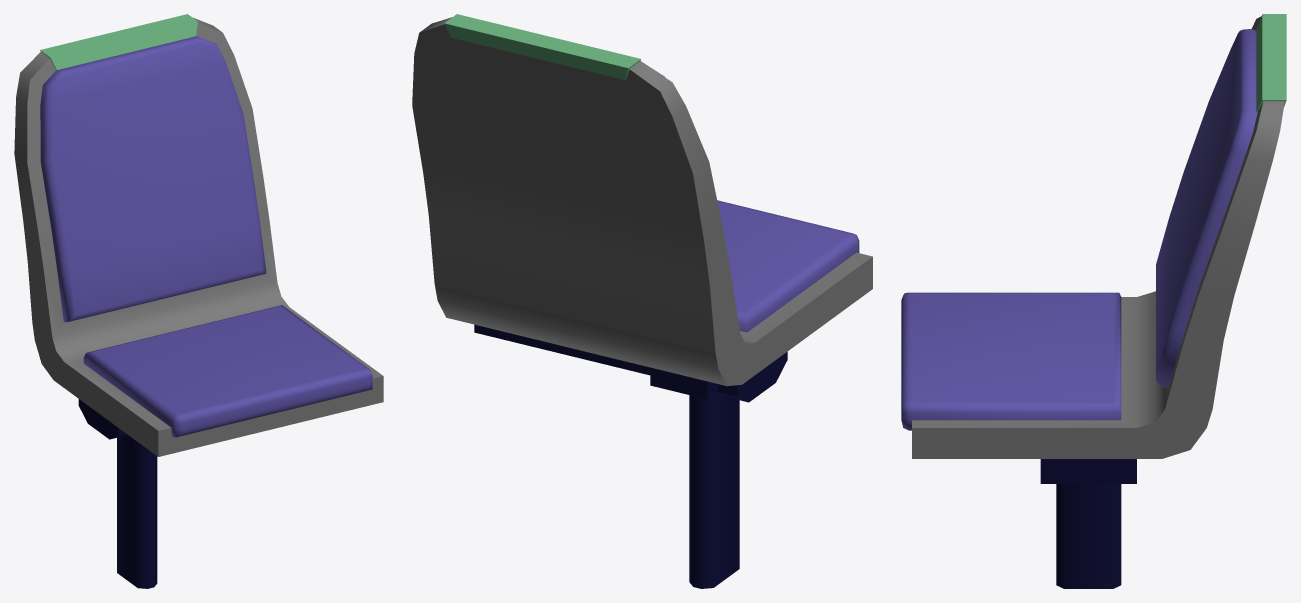
Rendered from Seat_Single_UVW.FBX.
3 views of the same model, side by side, from view 1: azimuth 30°, elevation 25°; view 2: azimuth 150°, elevation 25°; view 3: azimuth 270°, elevation 25° (orthographic). The views are drawn at different scales.
Visible parts, largest first — view 1: Seat_Single, Seat_Single_leg, Seat_Single_Handle; view 2: Seat_Single, Seat_Single_leg, Seat_Single_Handle; view 3: Seat_Single, Seat_Single_leg, Seat_Single_Handle.
Boxes of the visible parts, x1,y1,x2,y2 form: Seat_Single: (14,17,383,456); Seat_Single_leg: (78,399,157,588); Seat_Single_Handle: (40,14,197,70); Seat_Single: (412,17,872,386); Seat_Single_leg: (474,324,787,588); Seat_Single_Handle: (444,14,640,80); Seat_Single: (901,16,1284,458); Seat_Single_leg: (1040,459,1136,588); Seat_Single_Handle: (1256,14,1286,111).
Size of the model in its own units: 0.3969 by 0.7929 by 0.4938.
